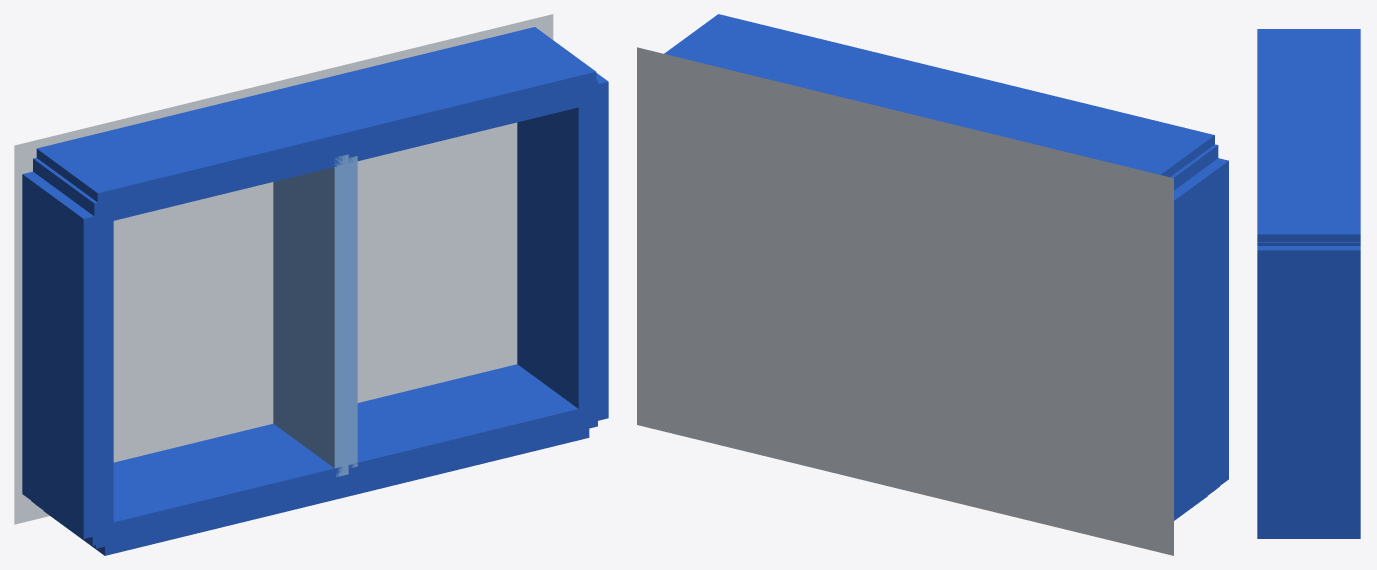
The model's file is test_minimal.obj.
3 views of the same model, side by side, from view 1: azimuth 30°, elevation 25°; view 2: azimuth 150°, elevation 25°; view 3: azimuth 270°, elevation 25° (orthographic). The views are drawn at different scales.
Bounding box in the file's own units: 15.25 × 10.25 × 3.05.
